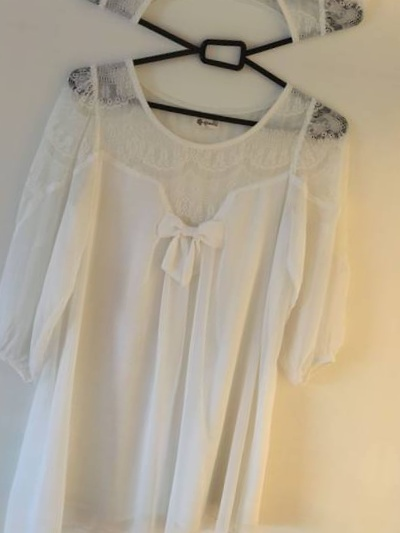Dress: (0, 48, 398, 533), (35, 0, 400, 57), (0, 0, 9, 516), (0, 522, 332, 533), (0, 0, 80, 3), (400, 108, 400, 533)
